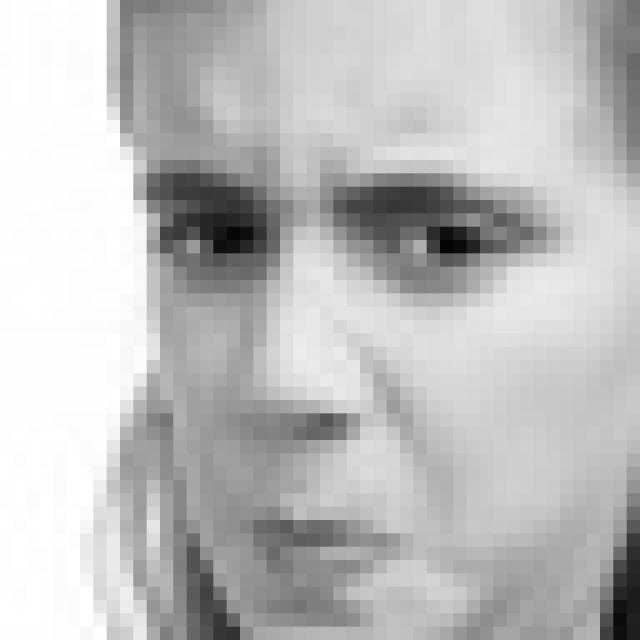disgust: (143, 164, 558, 626)
